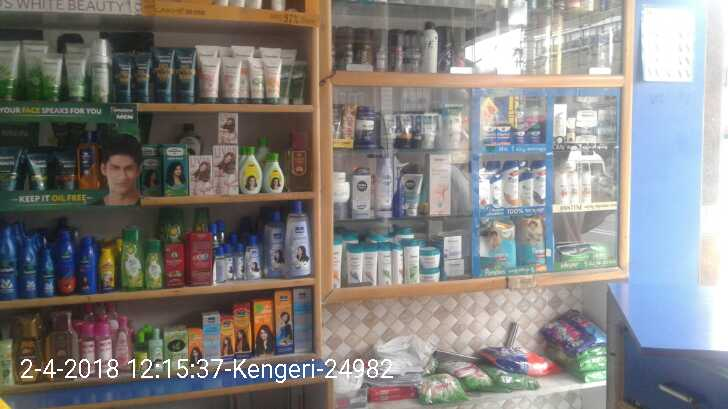vicks: (480, 124, 514, 145), (514, 122, 542, 145)
